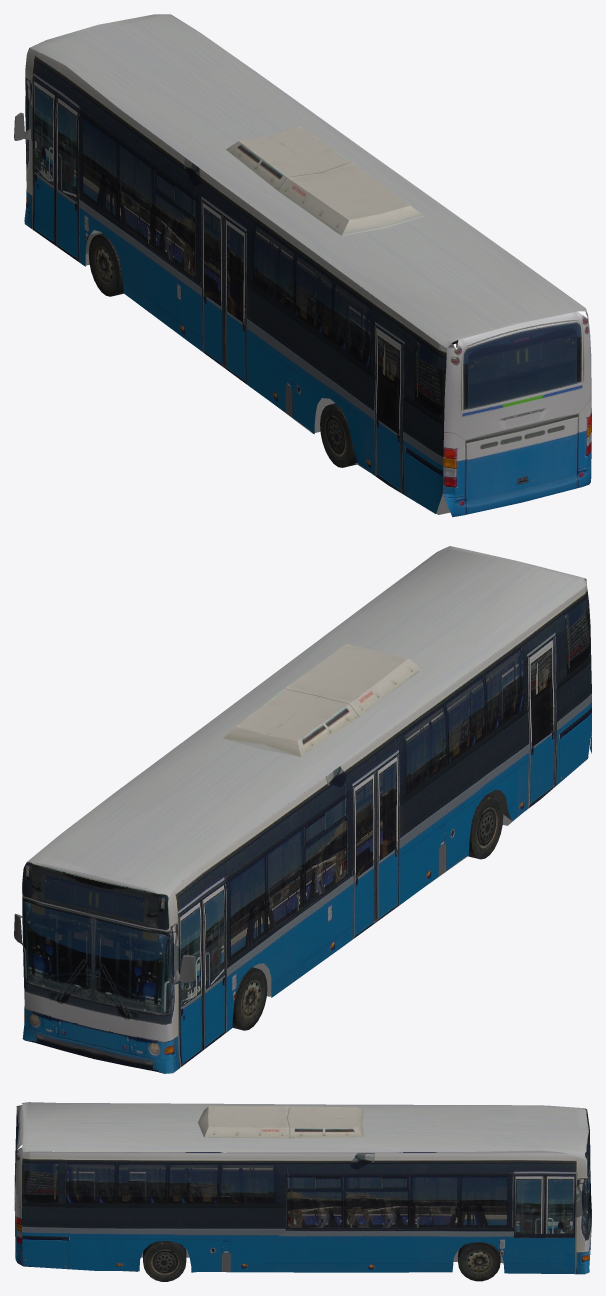
The model's file is vehicle-bus-2.gltf.
The picture shows the model from 3 angles, top to bottom: view 1: azimuth 30°, elevation 25°; view 2: azimuth 150°, elevation 25°; view 3: azimuth 270°, elevation 25°; orthographic projection. The views are drawn at different scales.
Visible parts, largest first — view 1: 3DXY_geometry_001-32side, 3DXY_geometry_001-32top, 3DXY_geometry_001-32back, 3DXY_geometry_001-32top2, 3DXY_geometry_001-3DXY_Material_3, 3DXY_geometry_001-3DXY_Material_1, 3DXY_geometry_001-3DXY_Material_5; view 2: 3DXY_geometry_001-32side, 3DXY_geometry_001-32top, 3DXY_geometry_001-32head, 3DXY_geometry_001-32top2, 3DXY_geometry_001-3DXY_Material_3, 3DXY_geometry_001-3DXY_Material_1, 3DXY_geometry_001-3DXY_Material_5; view 3: 3DXY_geometry_001-32side2, 3DXY_geometry_001-32top, 3DXY_geometry_001-32top2, 3DXY_geometry_001-3DXY_Material_3, 3DXY_geometry_001-3DXY_Material_1, 3DXY_geometry_001-32back, 3DXY_geometry_001-32head, 3DXY_geometry_001-3DXY_Material_2.
Boxes of the visible parts, x1,y1,x2,y2 form: 3DXY_geometry_001-32side: [25, 48, 446, 513]; 3DXY_geometry_001-32top: [30, 14, 587, 347]; 3DXY_geometry_001-32back: [442, 311, 591, 517]; 3DXY_geometry_001-32top2: [226, 126, 424, 235]; 3DXY_geometry_001-3DXY_Material_3: [320, 404, 351, 467]; 3DXY_geometry_001-3DXY_Material_1: [88, 235, 119, 296]; 3DXY_geometry_001-3DXY_Material_5: [14, 112, 454, 514]; 3DXY_geometry_001-32side: [168, 585, 591, 1072]; 3DXY_geometry_001-32top: [27, 546, 586, 895]; 3DXY_geometry_001-32head: [22, 862, 173, 1073]; 3DXY_geometry_001-32top2: [223, 644, 422, 756]; 3DXY_geometry_001-3DXY_Material_3: [471, 796, 503, 859]; 3DXY_geometry_001-3DXY_Material_1: [235, 968, 267, 1030]; 3DXY_geometry_001-3DXY_Material_5: [14, 757, 588, 996]; 3DXY_geometry_001-32side2: [22, 1150, 586, 1274]; 3DXY_geometry_001-32top: [22, 1102, 587, 1154]; 3DXY_geometry_001-32top2: [197, 1106, 364, 1138]; 3DXY_geometry_001-3DXY_Material_3: [143, 1242, 186, 1281]; 3DXY_geometry_001-3DXY_Material_1: [458, 1243, 500, 1281]; 3DXY_geometry_001-32back: [14, 1105, 23, 1265]; 3DXY_geometry_001-32head: [584, 1108, 591, 1273]; 3DXY_geometry_001-3DXY_Material_2: [143, 1241, 500, 1261].
Size of the model in its own units: 2.11 by 2.36 by 8.68.
12 materials, 11 textured.
